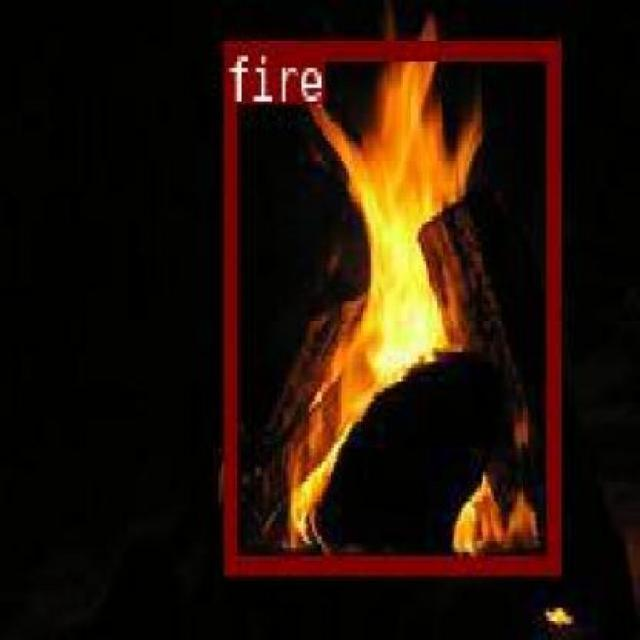Fire: (334, 304, 389, 536)
